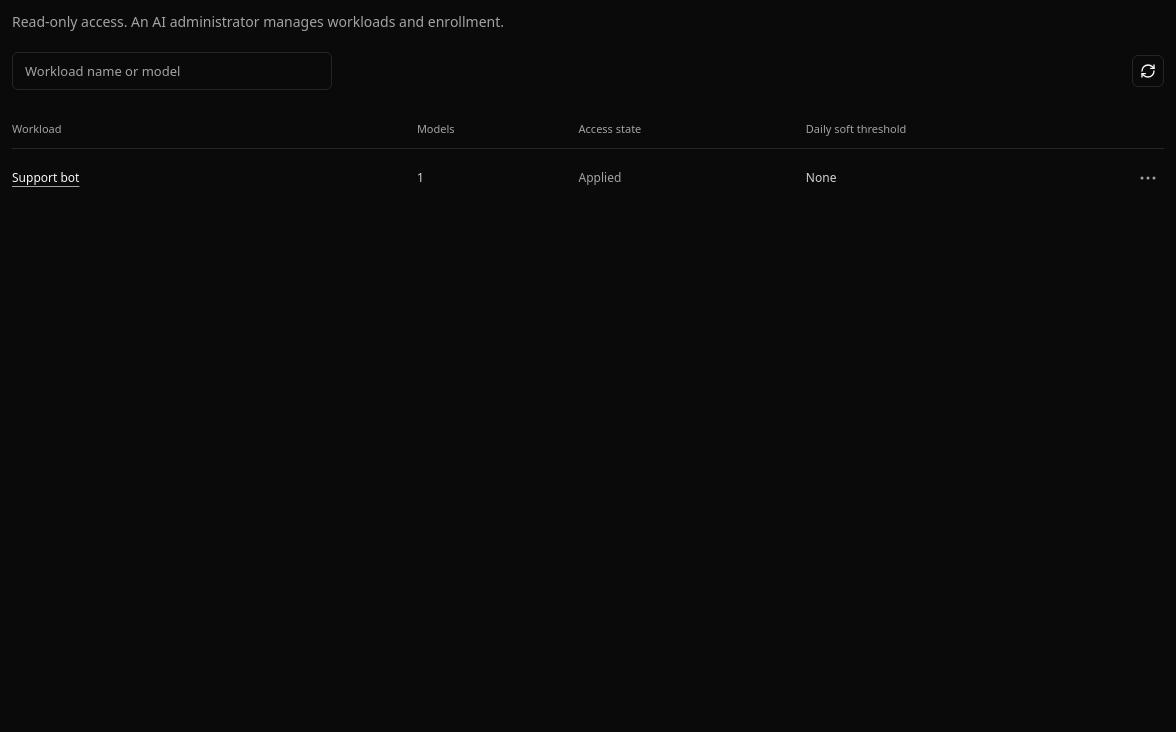
Test case: Workload model access › shows AI viewers read-only data without enrollment or mutation controls
Click the button with aria-label "Open Support bot": (46, 178) [12,168,79,187]
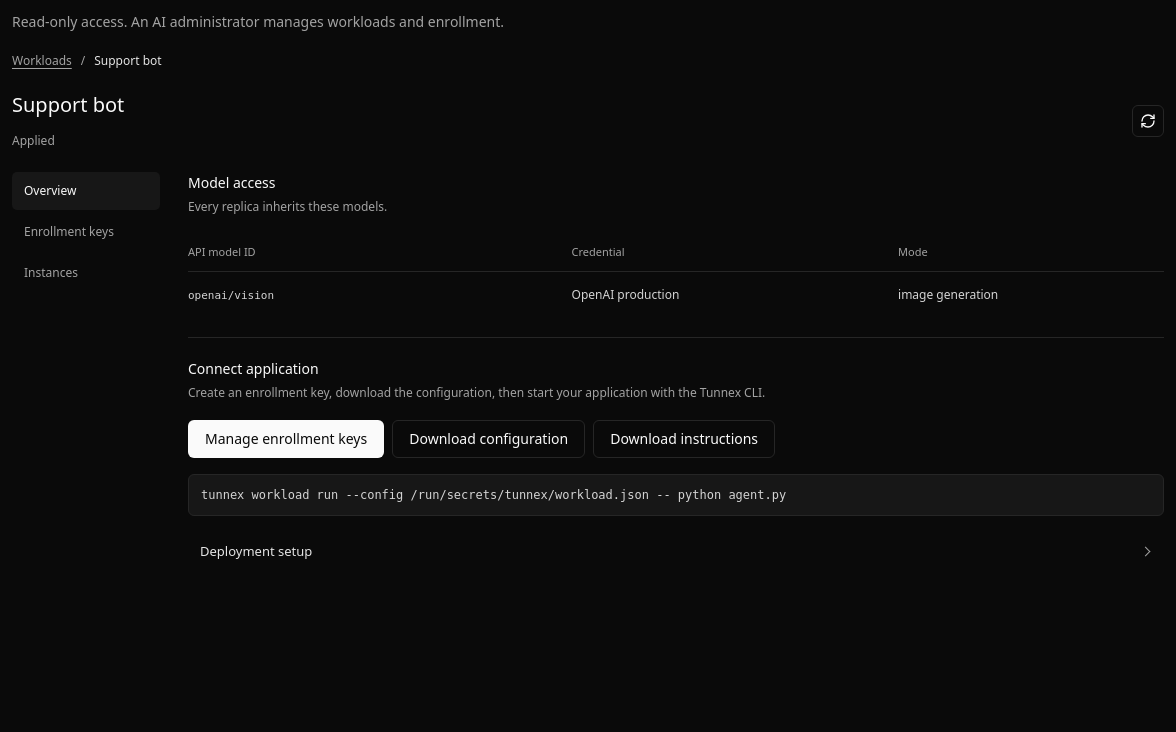
Expected: the button named "Refresh workload" is enabled, [1132,105,1164,137]
Click the tab "Enrollment keys": (86, 232) [12,213,160,251]
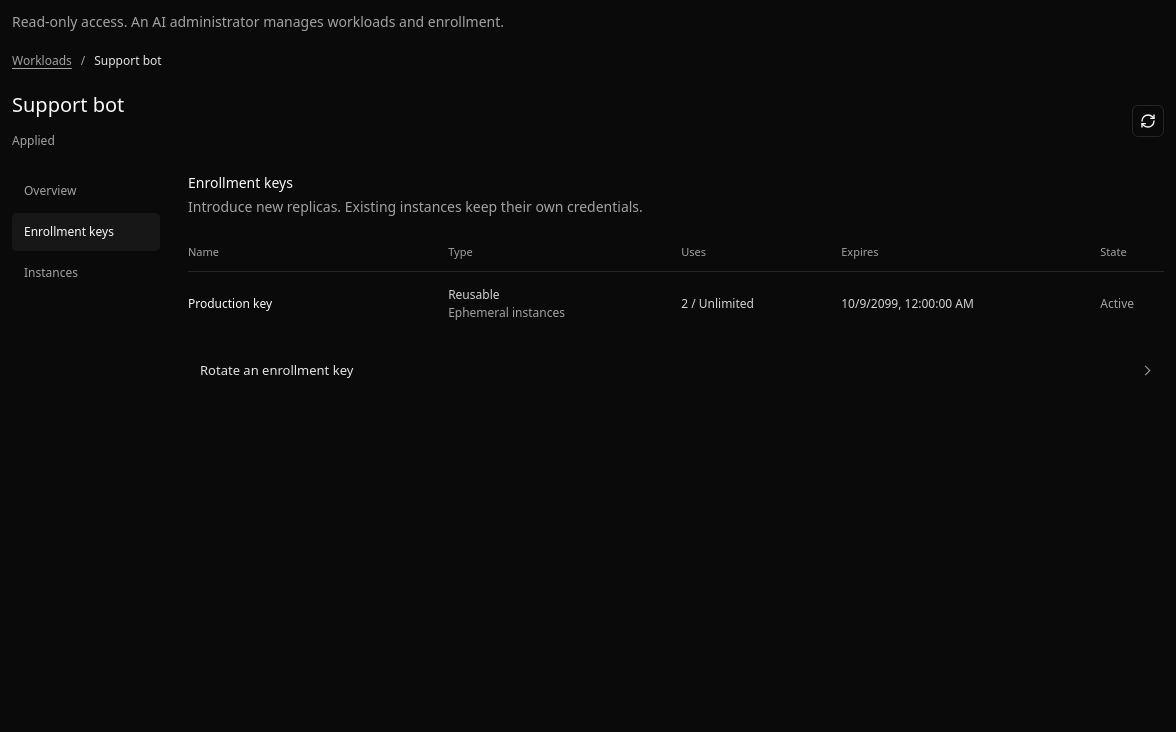
Expected: the text "Read-only access" is shown, [12,12,504,31]
Expected: the text "Production key" is shown, [188,295,272,312]
